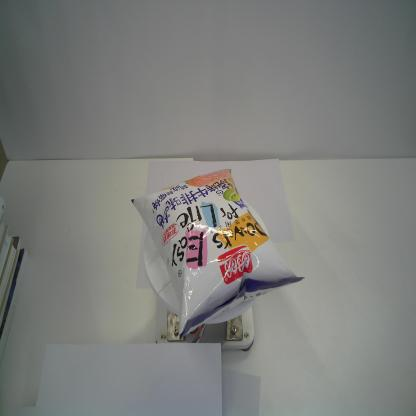Puffed Food: (131, 167, 306, 344)
